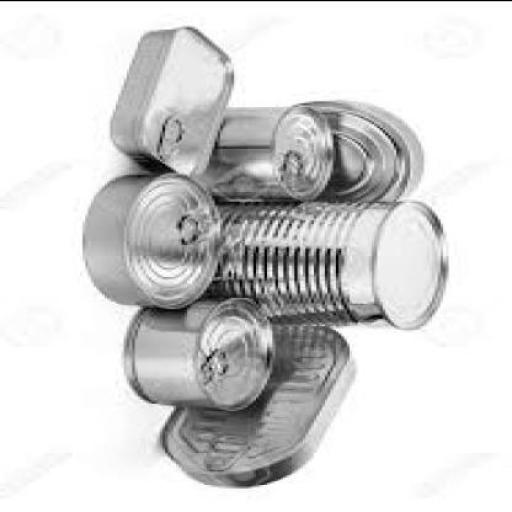metal: (203, 202, 452, 330), (165, 328, 361, 488), (85, 174, 223, 312), (114, 28, 236, 178), (124, 297, 281, 412), (292, 102, 427, 202), (198, 106, 336, 202)
